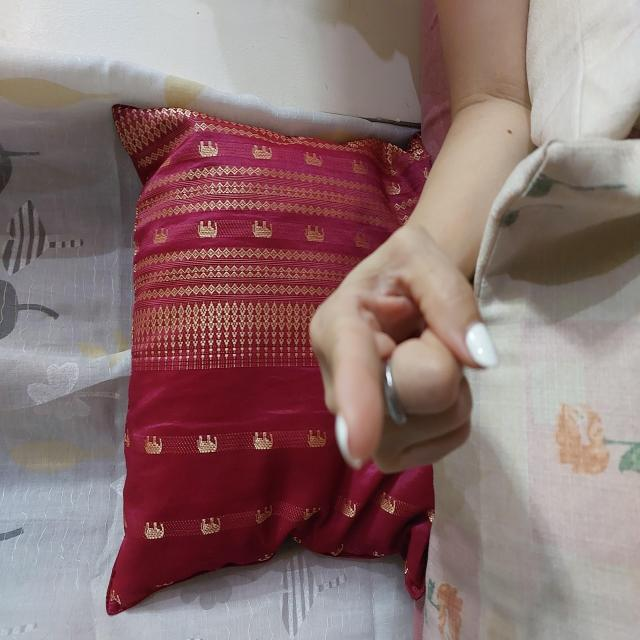Z: (160, 308, 418, 500)
